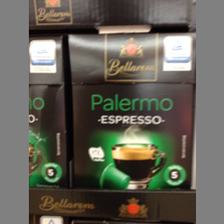coffee: (67, 32, 196, 191)
